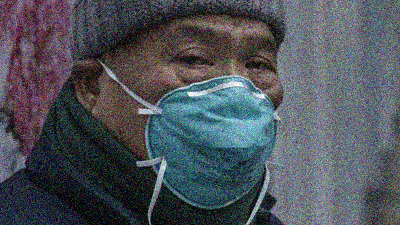with_mask: (105, 19, 282, 184)
